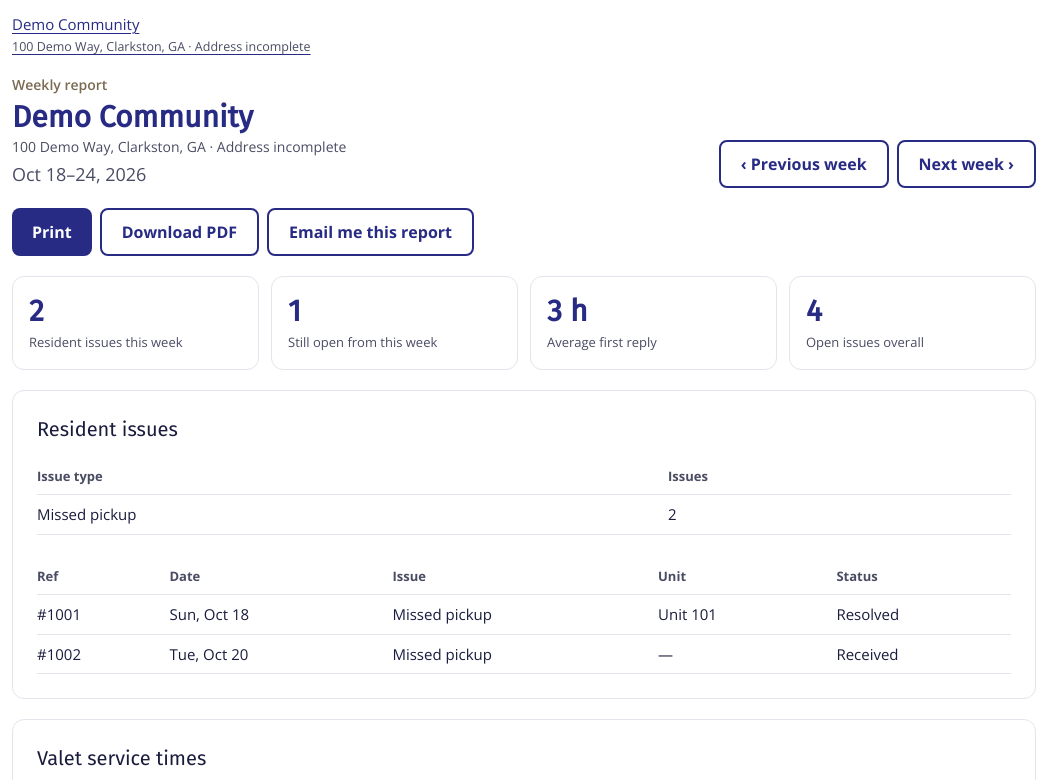
Test: WeeklyReportPage › shows the API's error when the email can't be sent
Click the button "Email me this report": (370,232) [267, 208, 474, 256]
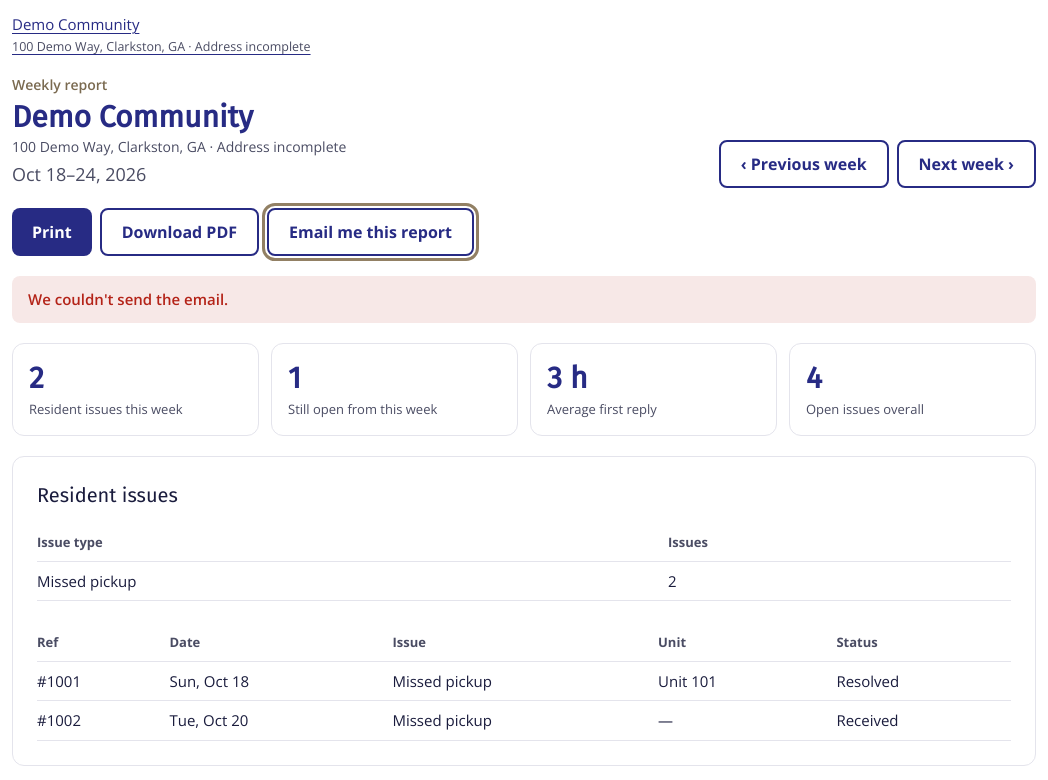
Now the message reads "We couldn't send the email.", box [28, 289, 228, 309]
